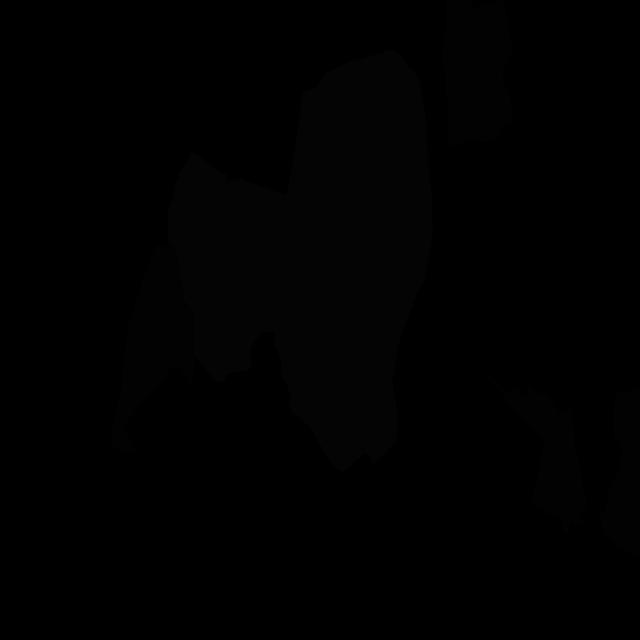cardboard: (110, 244, 195, 455), (487, 375, 588, 532), (443, 0, 513, 146), (600, 386, 640, 558)
soft_plastic: (167, 49, 433, 471)
